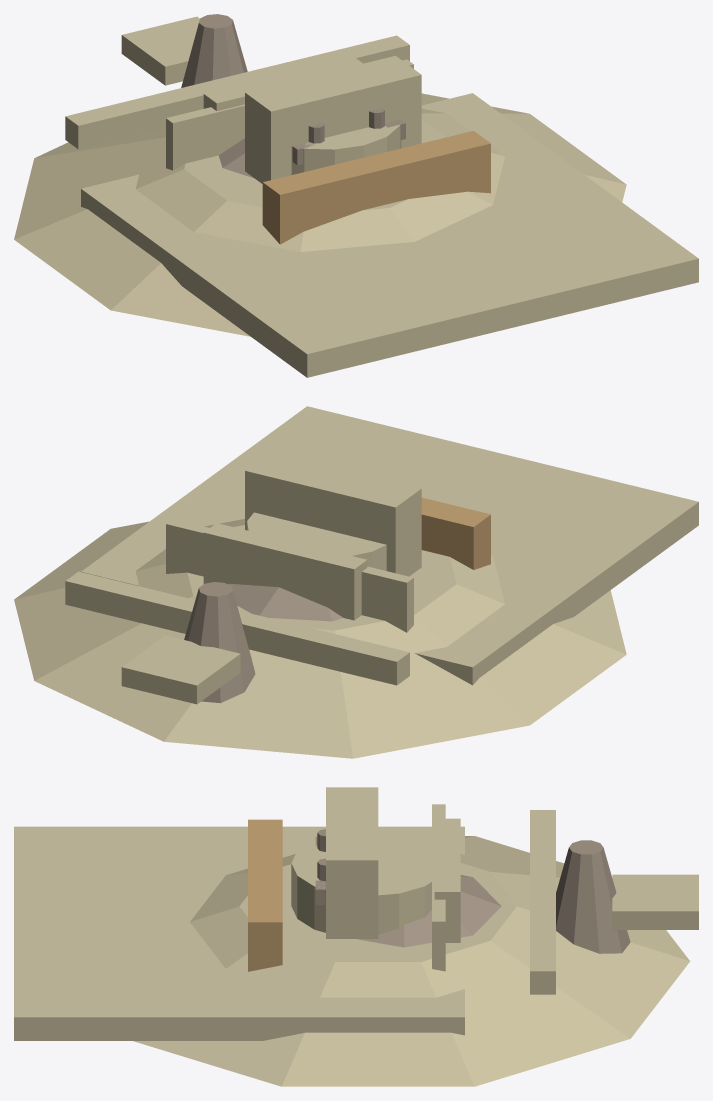
Rendered from forge.glb.
The picture shows the model from 3 angles, top to bottom: view 1: azimuth 30°, elevation 25°; view 2: azimuth 150°, elevation 25°; view 3: azimuth 270°, elevation 25°; orthographic projection.
Visible parts, largest first — view 1: bengkel_lantai.001, bengkel_atap.001, bengkel_meja.001, bengkel_anvil.001, bengkel_beam2.001, bengkel_rimbun.001, bengkel_cerobong_atas.001, bengkel_cerobong.001, bengkel_panci.001, bengkel_beam.001, bengkel_panci_gerinda.001, bengkel_anvil_kepala.001; view 2: bengkel_atap.001, bengkel_lantai.001, bengkel_anvil.001, bengkel_panci_gerinda.001, bengkel_beam2.001, bengkel_cerobong_atas.001, bengkel_beam.001, bengkel_rimbun.001, bengkel_cerobong.001, bengkel_meja.001, bengkel_panci.001, bengkel_anvil_kepala.001; view 3: bengkel_lantai.001, bengkel_atap.001, bengkel_anvil.001, bengkel_panci.001, bengkel_cerobong.001, bengkel_meja.001, bengkel_cerobong_atas.001, bengkel_beam.001, bengkel_panci_gerinda.001, bengkel_anvil_kepala.001, bengkel_beam2.001, bengkel_rimbun.001.
Part boxes in pixels (<box>): bengkel_lantai.001: <box>81,93,698,377</box>; bengkel_atap.001: <box>14,93,626,336</box>; bengkel_meja.001: <box>262,131,490,244</box>; bengkel_anvil.001: <box>245,56,421,183</box>; bengkel_beam2.001: <box>65,73,254,149</box>; bengkel_rimbun.001: <box>166,59,413,170</box>; bengkel_cerobong_atas.001: <box>121,16,199,85</box>; bengkel_cerobong.001: <box>181,14,247,87</box>; bengkel_panci.001: <box>291,125,401,174</box>; bengkel_beam.001: <box>216,35,409,87</box>; bengkel_panci_gerinda.001: <box>203,57,362,110</box>; bengkel_anvil_kepala.001: <box>218,138,253,177</box>; bengkel_atap.001: <box>14,519,626,758</box>; bengkel_lantai.001: <box>81,406,698,685</box>; bengkel_anvil.001: <box>245,451,421,576</box>; bengkel_panci_gerinda.001: <box>203,523,367,620</box>; bengkel_beam2.001: <box>243,614,409,685</box>; bengkel_cerobong_atas.001: <box>121,635,240,704</box>; bengkel_beam.001: <box>65,571,258,637</box>; bengkel_rimbun.001: <box>166,519,413,632</box>; bengkel_cerobong.001: <box>184,582,255,703</box>; bengkel_meja.001: <box>421,497,490,569</box>; bengkel_panci.001: <box>247,512,386,570</box>; bengkel_anvil_kepala.001: <box>228,583,342,621</box>; bengkel_lantai.001: <box>14,826,464,1040</box>; bengkel_atap.001: <box>133,836,690,1086</box>; bengkel_anvil.001: <box>326,787,378,938</box>; bengkel_panci.001: <box>291,831,432,934</box>; bengkel_cerobong.001: <box>556,840,630,953</box>; bengkel_meja.001: <box>248,819,282,971</box>; bengkel_cerobong_atas.001: <box>612,874,698,929</box>; bengkel_beam.001: <box>530,883,555,994</box>; bengkel_panci_gerinda.001: <box>434,818,460,942</box>; bengkel_anvil_kepala.001: <box>356,875,501,947</box>; bengkel_beam2.001: <box>530,810,555,897</box>; bengkel_rimbun.001: <box>432,804,445,971</box>.
Size of the model in its own units: 3.42 by 1.25 by 3.95.
